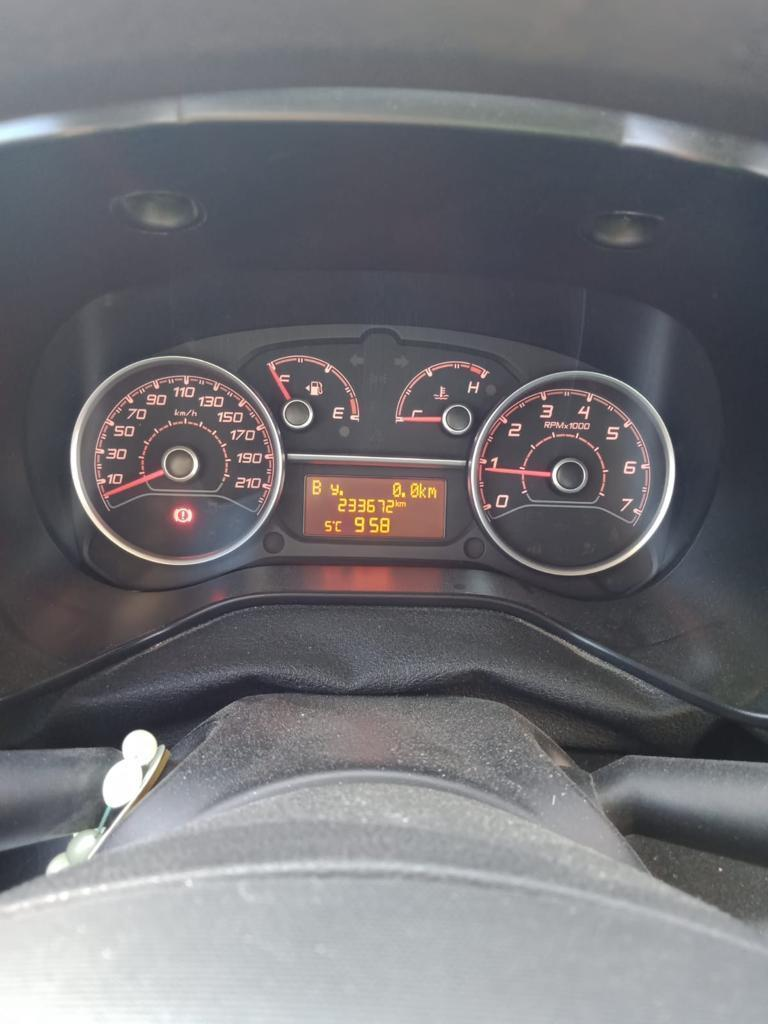,: (338, 490, 343, 496), (401, 491, 405, 498)
0: (391, 481, 400, 498), (409, 482, 418, 498)
2: (337, 497, 346, 512), (385, 499, 394, 513)
3: (347, 498, 355, 512), (357, 498, 365, 512)
5: (368, 516, 379, 533), (323, 519, 332, 532)
6: (366, 498, 375, 512)
7: (376, 498, 385, 513)
8: (379, 516, 389, 533)
9: (353, 516, 364, 533)
X: (311, 478, 321, 496), (329, 482, 338, 496), (419, 481, 426, 498), (427, 486, 436, 498), (335, 519, 342, 532), (399, 501, 405, 507), (395, 499, 399, 507)
odometer: (299, 470, 449, 544)
